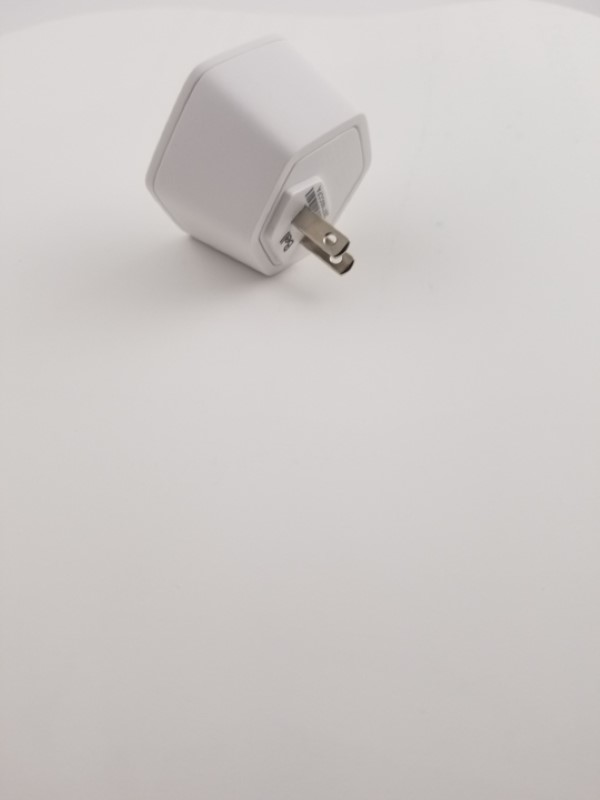pod: (142, 29, 380, 293)
